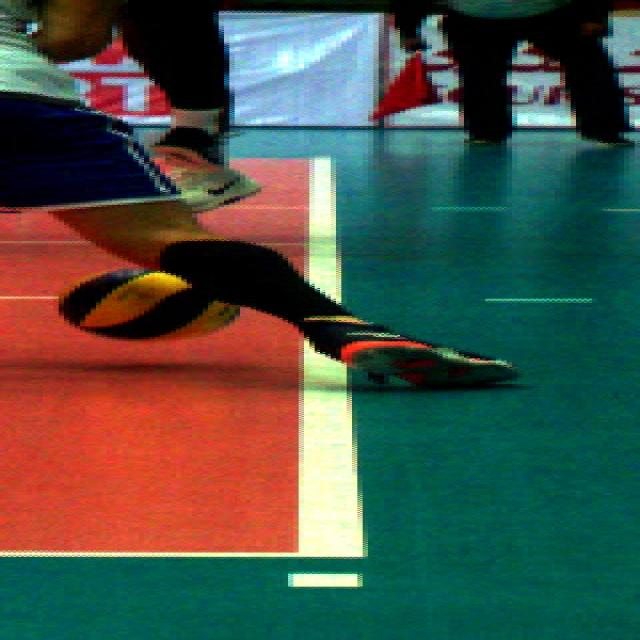Volleyball: (63, 265, 247, 340)
